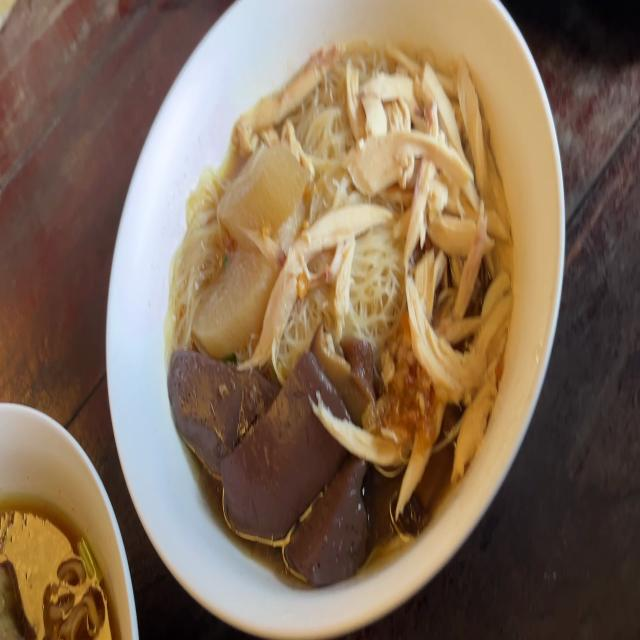boiled_chicken_blood_jelly: (166, 368, 384, 572)
chicken_shredded: (370, 60, 509, 417), (234, 47, 337, 156)
daikon_radish: (192, 147, 303, 347)
noodle: (160, 27, 510, 580), (0, 479, 118, 639)
